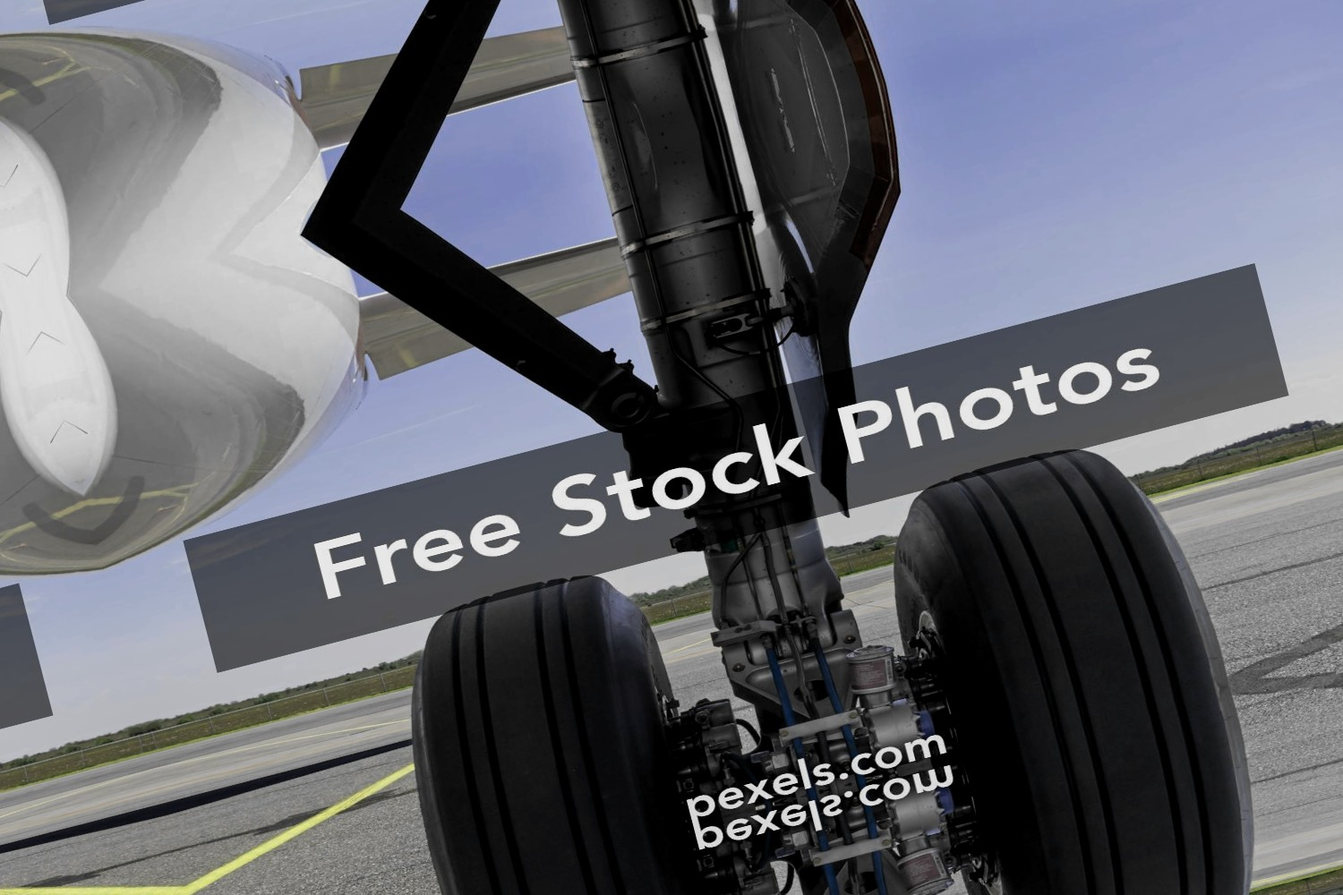wheel: (871, 421, 1230, 758), (367, 558, 704, 890), (941, 690, 1299, 895)
